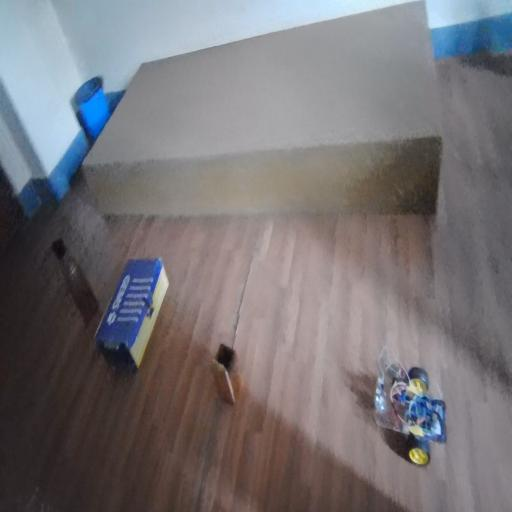Bottle: (48, 233, 104, 323)
car: (373, 349, 442, 484)
